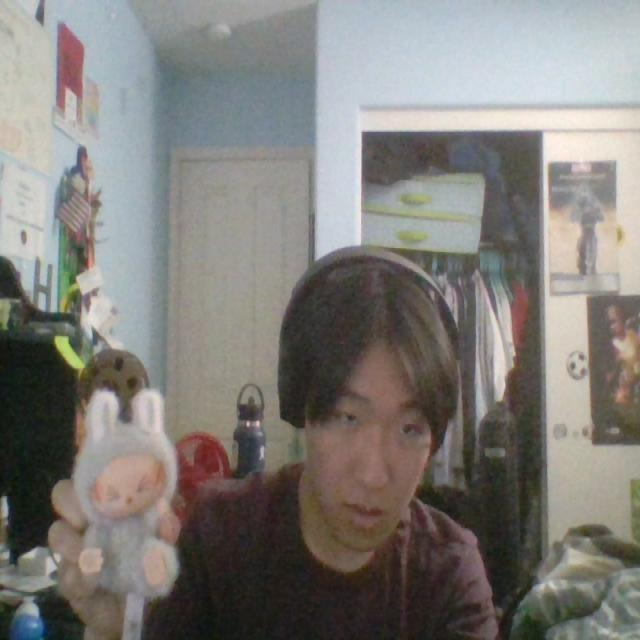labubu: (72, 389, 177, 599)
